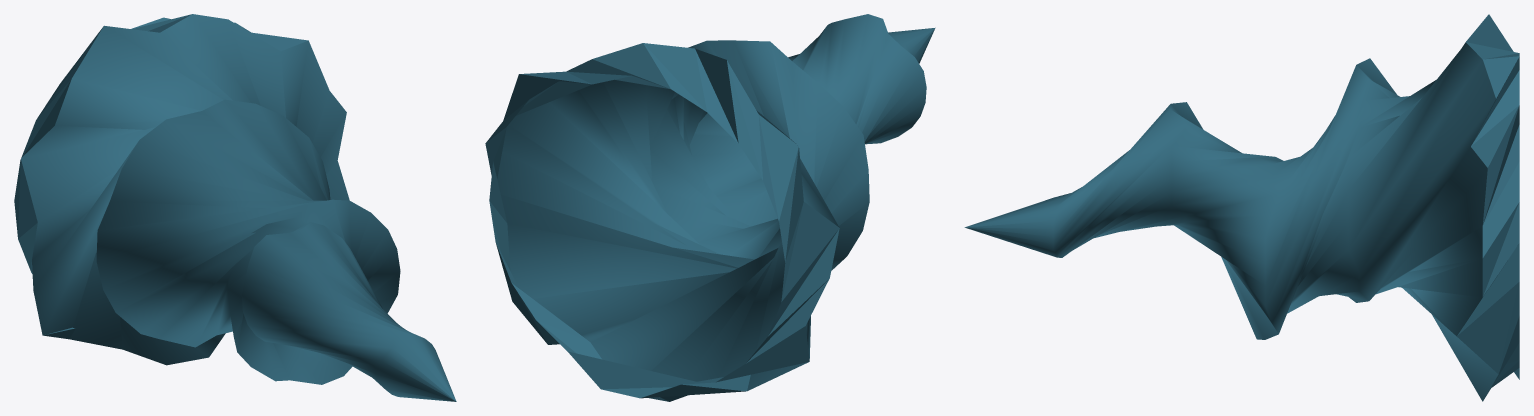
3 views of the same model, side by side, from view 1: azimuth 30°, elevation 25°; view 2: azimuth 150°, elevation 25°; view 3: azimuth 270°, elevation 25° (orthographic). The views are drawn at different scales.
Parts seen in each view (by area): view 1: Cone001; view 2: Cone001; view 3: Cone001.
Part boxes in pixels (bbox=[...]): Cone001: bbox=[14, 14, 456, 401]; Cone001: bbox=[485, 14, 935, 401]; Cone001: bbox=[964, 14, 1519, 401].
Size of the model in its own units: 263 by 410 by 272.
